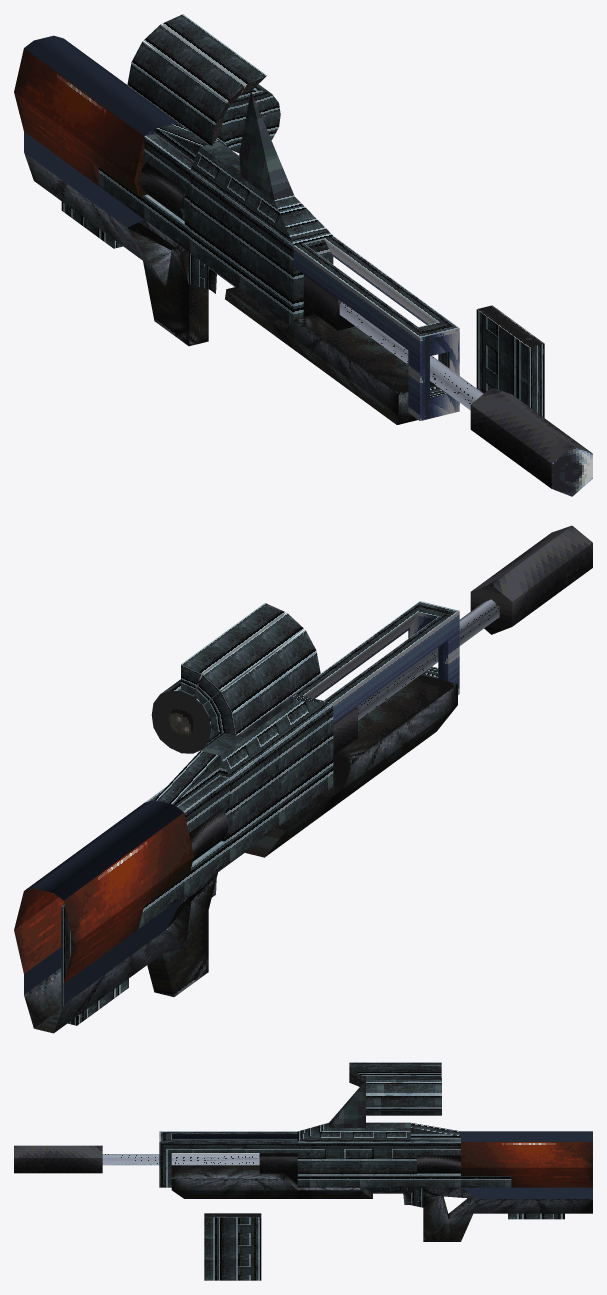
Rendered from Gun0015.obj.
3 views of the same model, one above another, from view 1: azimuth 30°, elevation 25°; view 2: azimuth 150°, elevation 25°; view 3: azimuth 270°, elevation 25° (orthographic). The views are drawn at different scales.
Visible parts, largest first — view 1: Room01_primary, Room07_primary, Room03_primary; view 2: Room01_primary, Room05_primary; view 3: Room01_primary, Room07_primary, Room05_primary.
Part boxes in pixels (left/top/right/bottom): Room01_primary: left=14, top=14, right=591, bottom=488; Room07_primary: left=476, top=305, right=544, bottom=417; Room03_primary: left=134, top=124, right=592, bottom=496; Room01_primary: left=14, top=525, right=592, bottom=1033; Room05_primary: left=61, top=904, right=128, bottom=1025; Room01_primary: left=14, top=1062, right=592, bottom=1241; Room07_primary: left=204, top=1213, right=261, bottom=1280; Room05_primary: left=508, top=1213, right=564, bottom=1219.
Size of the model in its own units: 242 by 371 by 1105.
84 materials, 84 textured.
